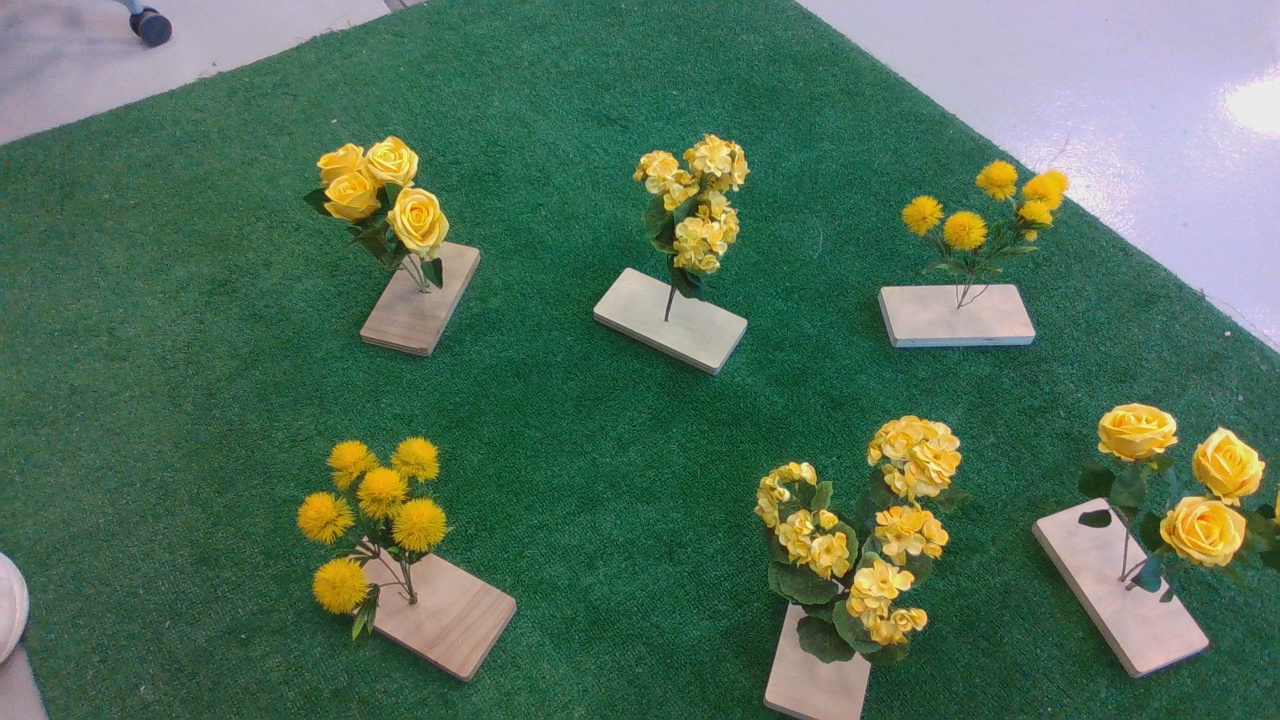dandelion: (302, 427, 470, 644), (898, 163, 1082, 289)
geranium: (751, 413, 972, 679), (1064, 395, 1280, 624), (634, 134, 767, 315)
rose: (299, 127, 473, 299)
